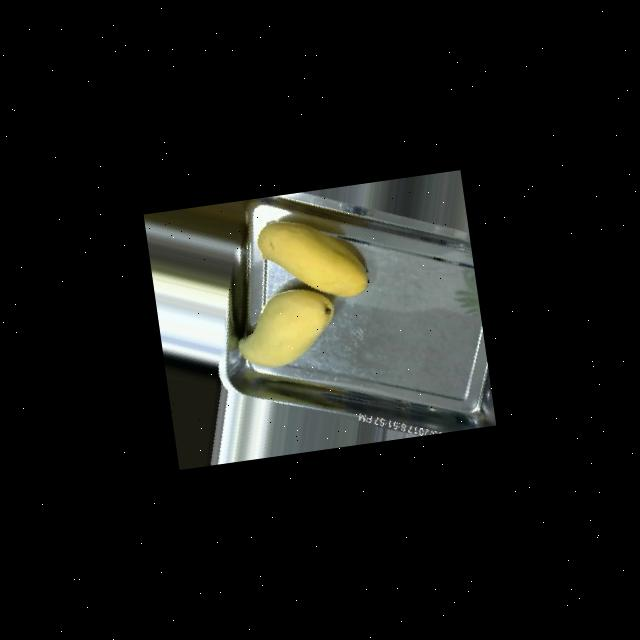Mango: (255, 210, 372, 310), (232, 284, 343, 373)
